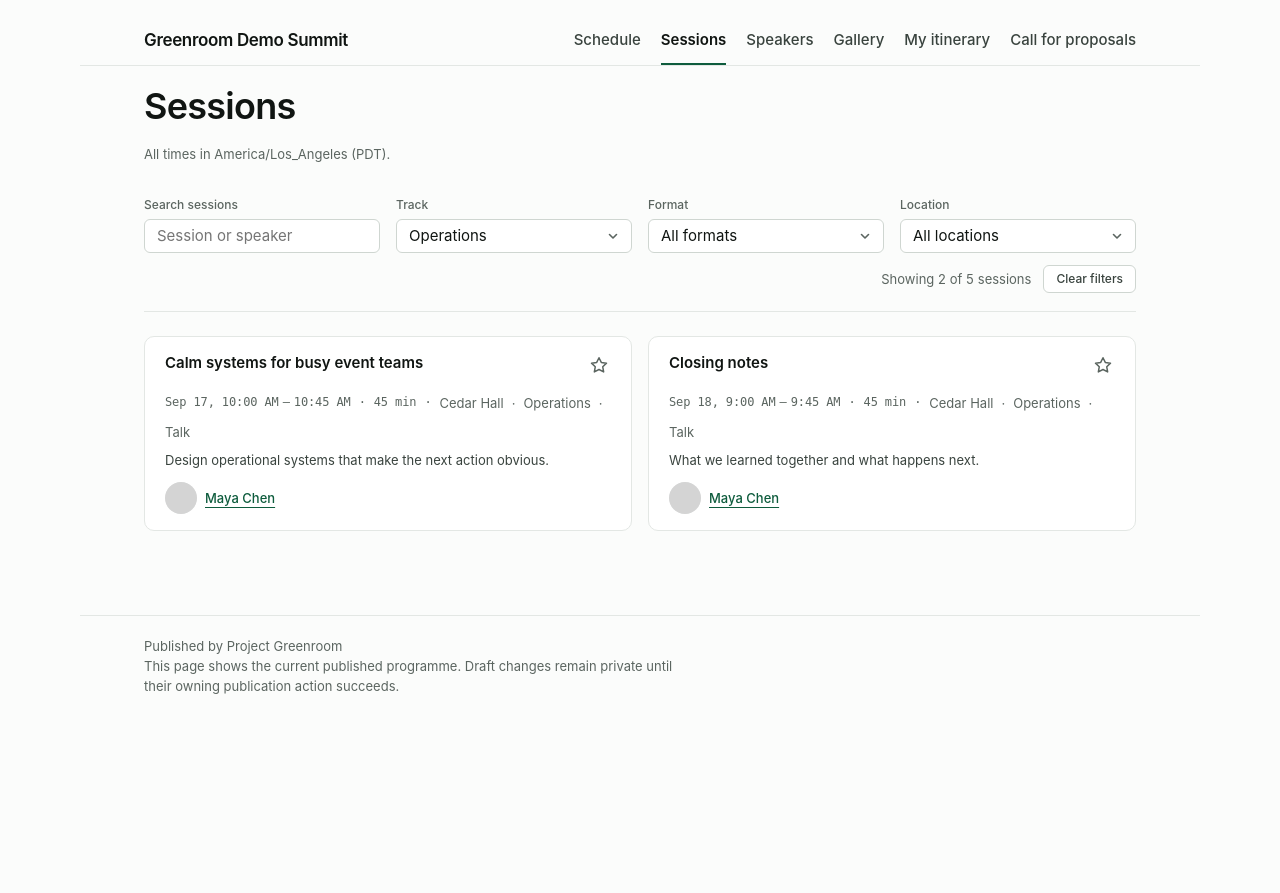
public schedule › carries the filters in the address bar, and clears them from one control
Expected: the heading "Sessions" is shown, [144,84,296,128]
Expected: the message reads "Showing 2 of 5 sessions", [881,269,1032,289]
Type "closing" into the search field labelled "Search sessions" at (262, 236), box [144,219,380,253]
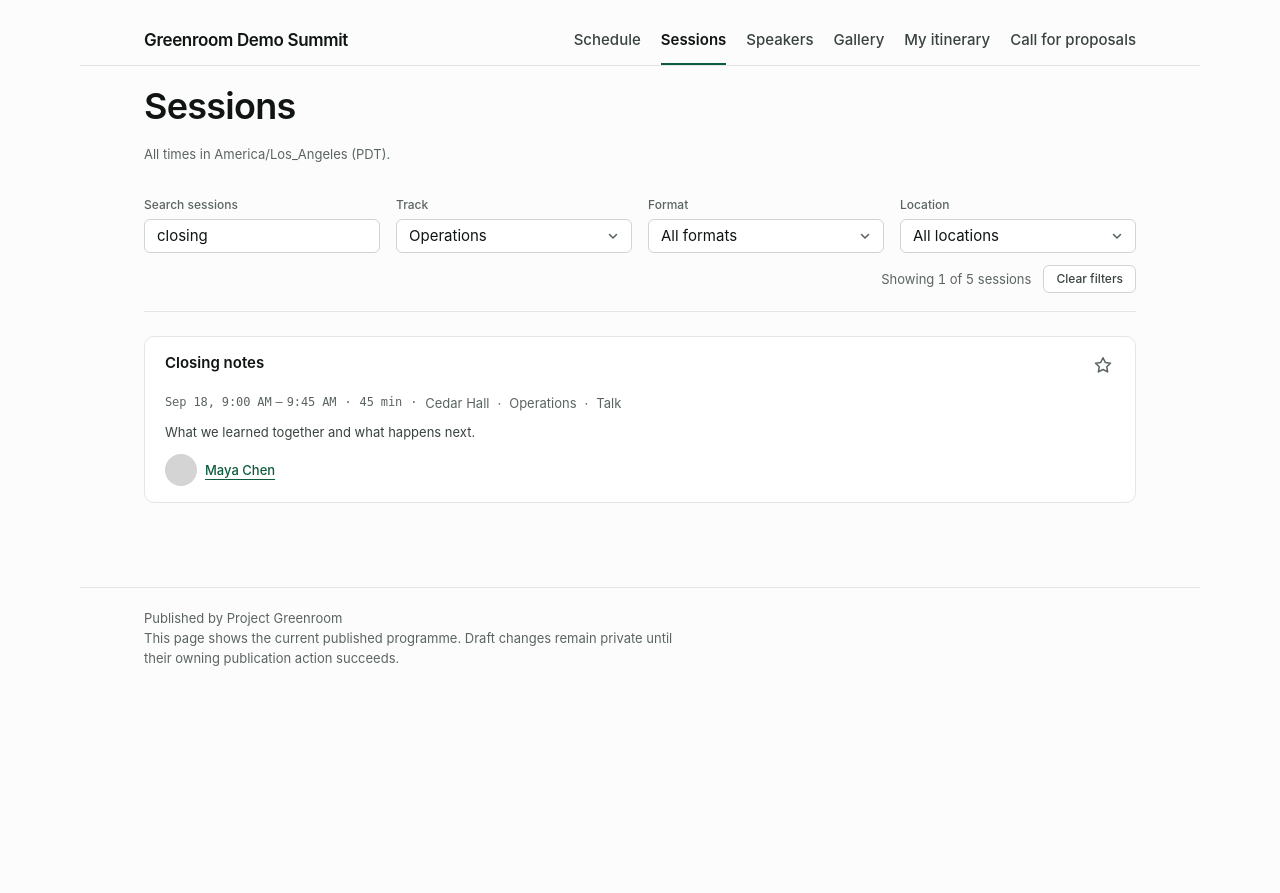
The empty state used to name a control that did not exist anywhere on the page.
Click the button "Clear filters" at (1090, 279), box [1043,265,1136,293]
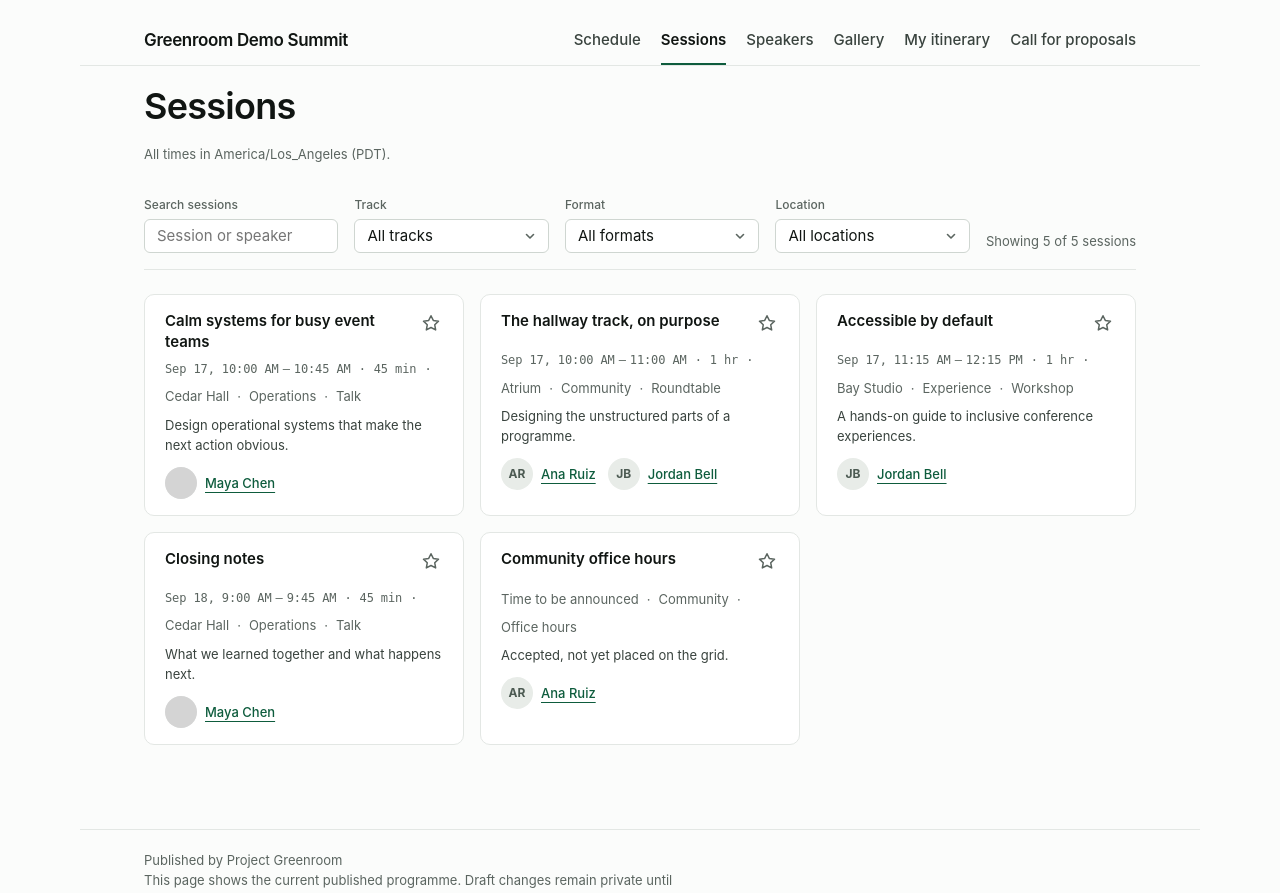
Now the message reads "Showing 5 of 5 sessions", box [986,231,1136,251]
Now the button "Clear filters" is gone
